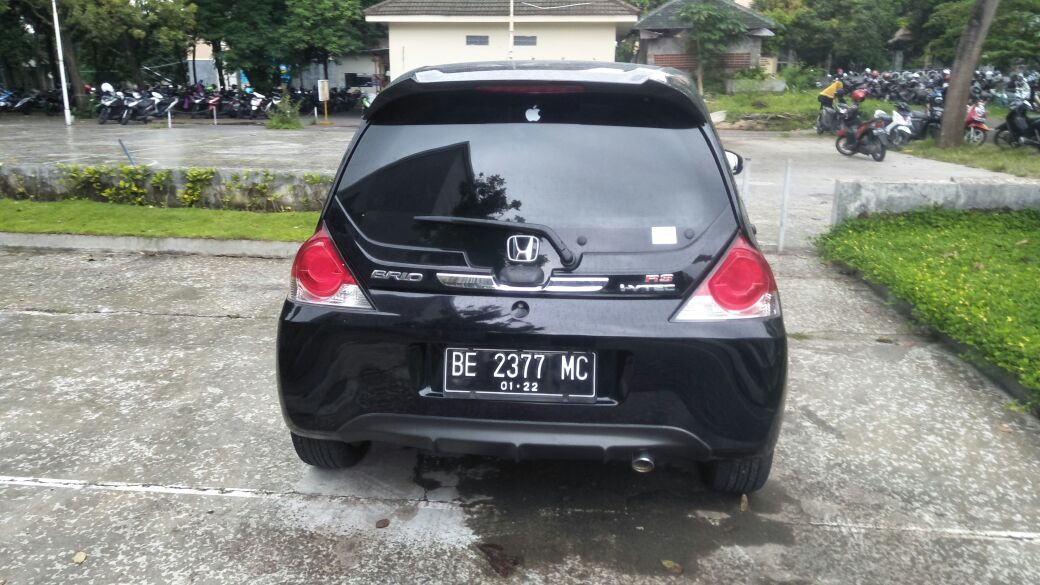plate: (441, 346, 599, 398)
